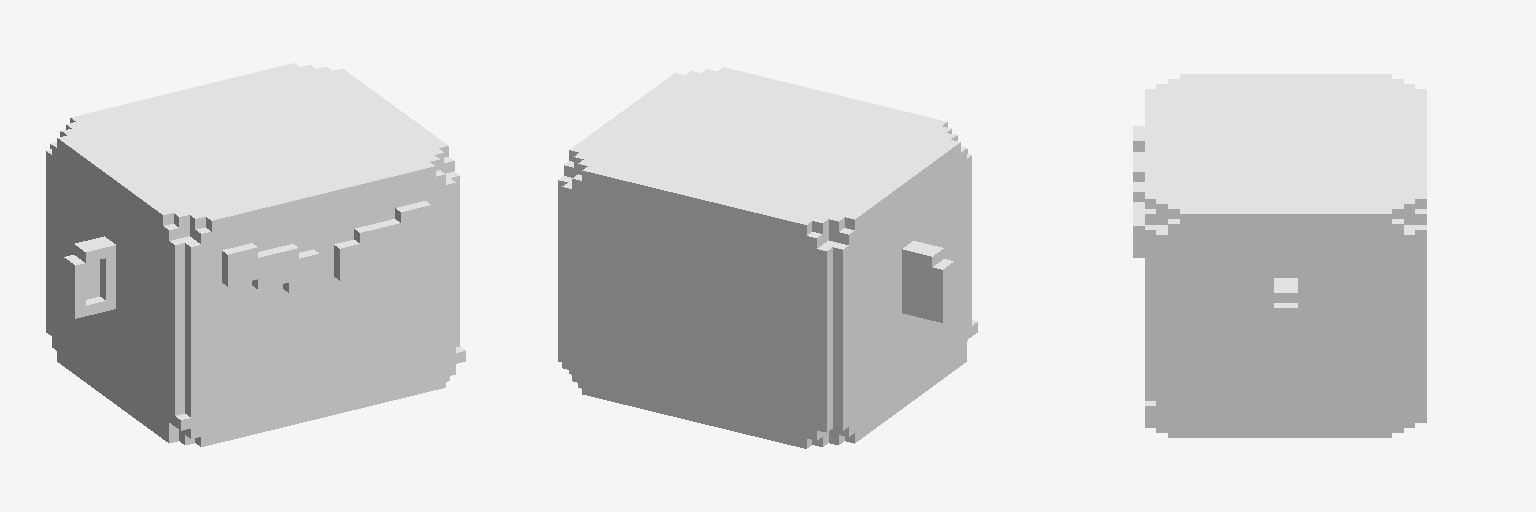
File: SniperGuard_Head.obj
3 views of the same model, side by side, from view 1: azimuth 30°, elevation 25°; view 2: azimuth 150°, elevation 25°; view 3: azimuth 270°, elevation 25° (orthographic).
Bounding box in the file's own units: 36 × 21 × 25.